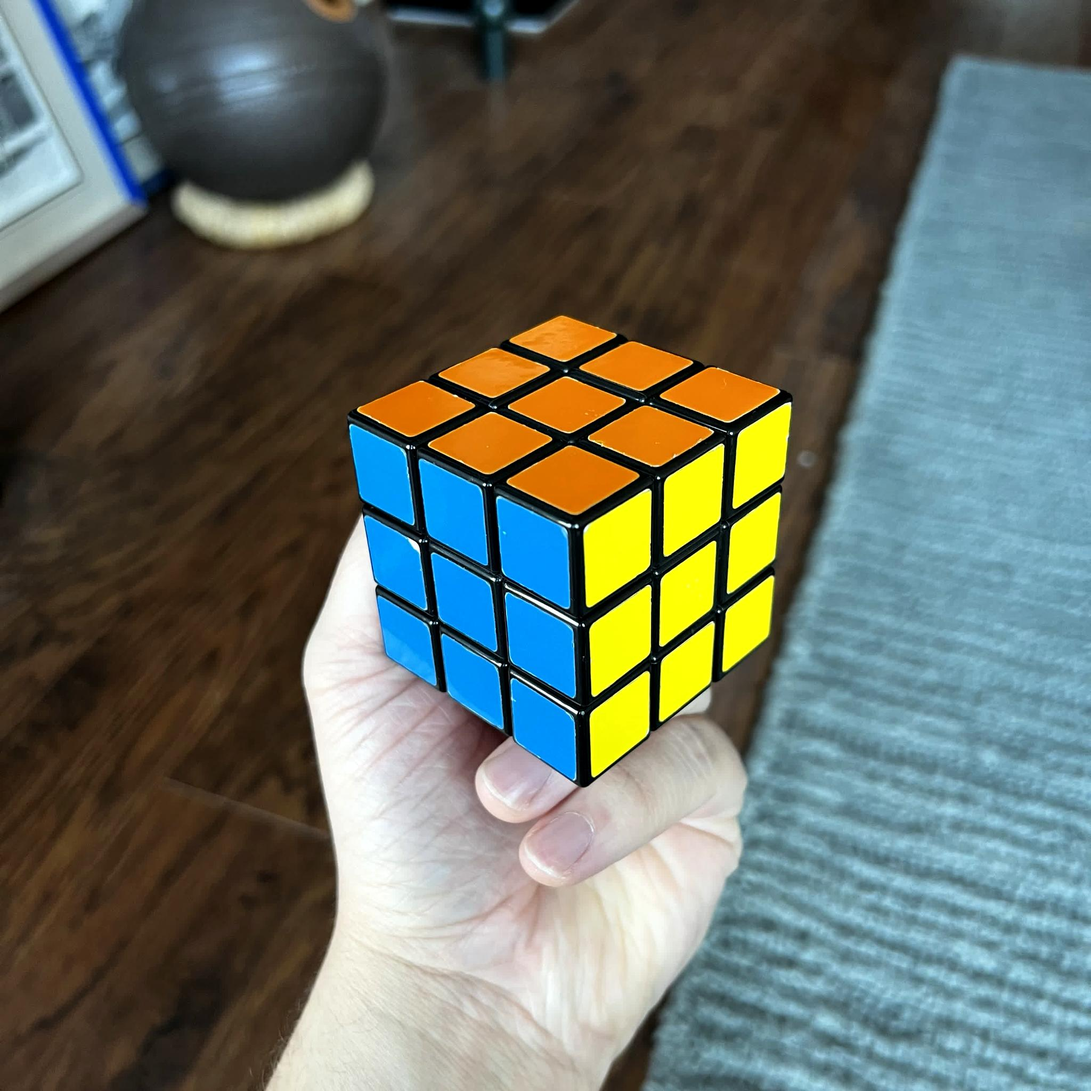rubiks_cube: (349, 315, 791, 780)
